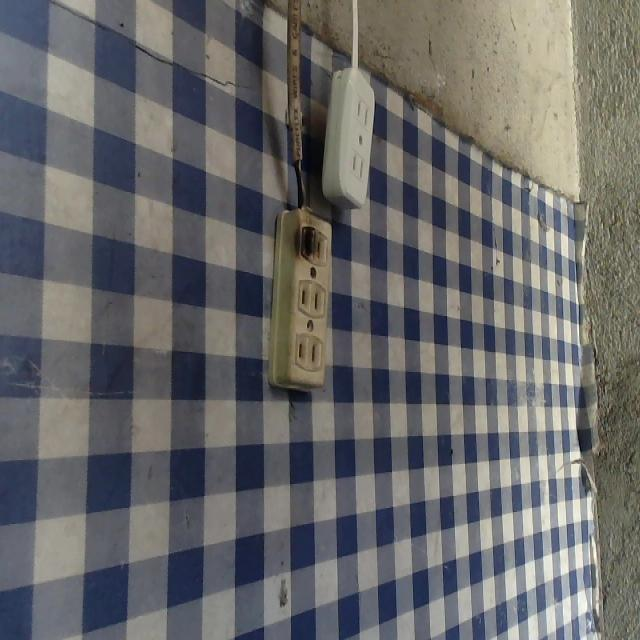-: (292, 214, 321, 270)
